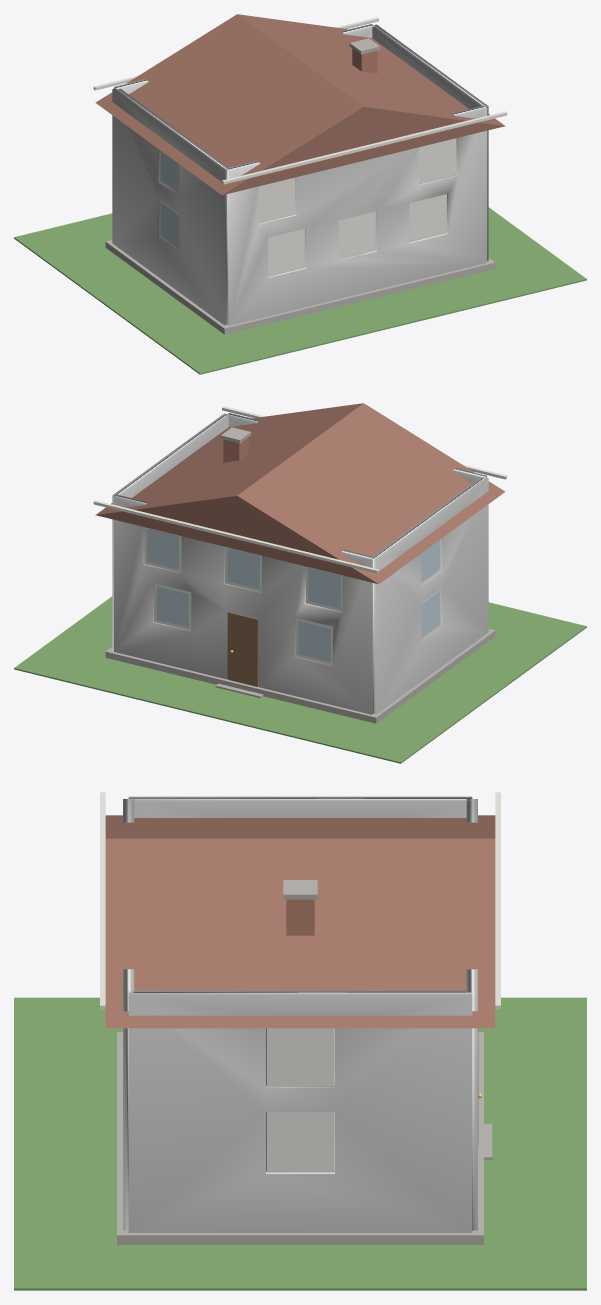
The model's file is two_story_colonial.glb.
The picture shows the model from 3 angles, top to bottom: view 1: azimuth 30°, elevation 25°; view 2: azimuth 150°, elevation 25°; view 3: azimuth 270°, elevation 25°; orthographic projection. The views are drawn at different scales.
Parts seen in each view (by area): view 1: roof, back_wall, lawn, left_wall, frame (×7), foundation, right_wall, back_gutter, glass (×2), front_wall, chimney; view 2: roof, front_wall, lawn, left_wall, frame (×7), glass (×7), foundation, panel, right_wall, front_gutter, back_wall, chimney; view 3: lawn, roof, right_wall, frame (×2), left_wall, foundation, front_wall, back_wall, front_gutter, back_gutter, chimney, chimney_cap.
Part boxes in pixels (x1,y1,x2,y2): roof: (95, 14, 505, 195); back_wall: (226, 106, 486, 325); lawn: (14, 207, 586, 374); left_wall: (112, 88, 229, 324); frame (×7): (159, 138, 456, 276); foundation: (105, 240, 495, 334); right_wall: (372, 24, 488, 260); back_gutter: (222, 111, 507, 184); glass (×2): (161, 151, 179, 248); front_wall: (114, 24, 374, 94); chimney: (352, 48, 377, 73); roof: (95, 403, 505, 584); front_wall: (114, 494, 374, 714); lawn: (14, 596, 586, 763); left_wall: (371, 477, 488, 713); frame (×7): (144, 527, 441, 665); glass (×7): (147, 528, 439, 661); foundation: (105, 629, 495, 723); panel: (227, 611, 258, 686); right_wall: (112, 413, 229, 649); front_gutter: (93, 500, 378, 573); back_wall: (226, 413, 486, 483); chimney: (223, 437, 248, 462); lawn: (14, 997, 586, 1290); roof: (105, 815, 495, 1028); right_wall: (128, 990, 472, 1232); frame (×2): (266, 1028, 334, 1172); left_wall: (128, 796, 472, 817); foundation: (117, 1032, 483, 1244); front_wall: (466, 799, 477, 1230); back_wall: (123, 799, 134, 1230); front_gutter: (495, 792, 500, 1009); back_gutter: (100, 792, 105, 1009); chimney: (286, 899, 314, 935); chimney_cap: (283, 880, 317, 899).
Size of the model in its own units: 12 by 5.9 by 10.
